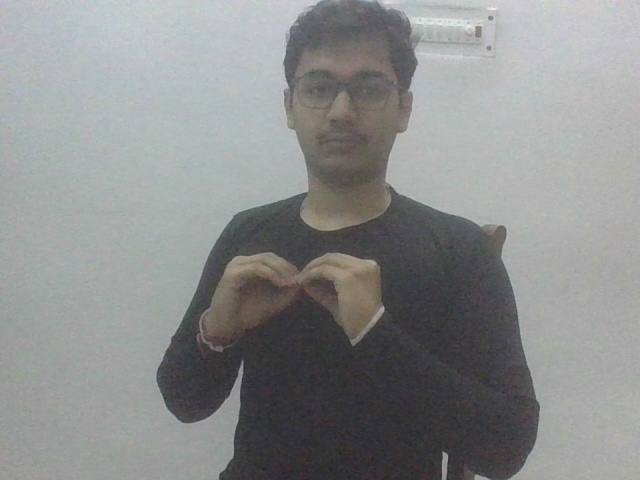B: (206, 247, 390, 351)
